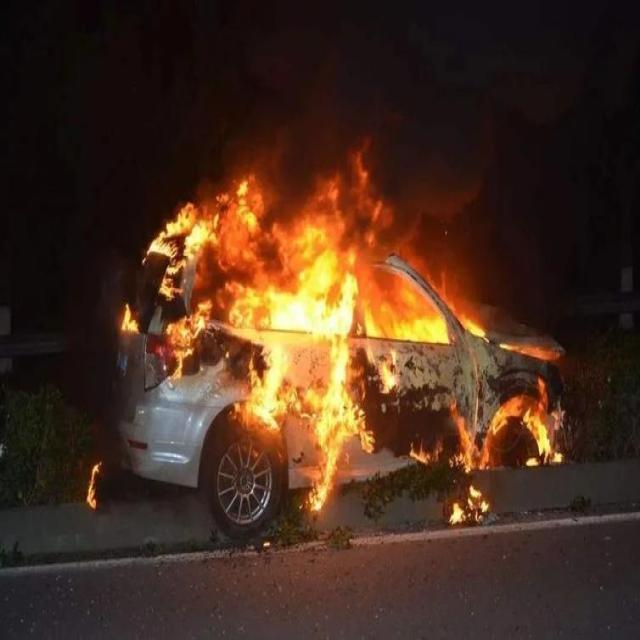Fire: (150, 178, 306, 330), (306, 278, 359, 510), (395, 298, 448, 344), (528, 412, 564, 464), (450, 482, 489, 528), (86, 458, 100, 510)
